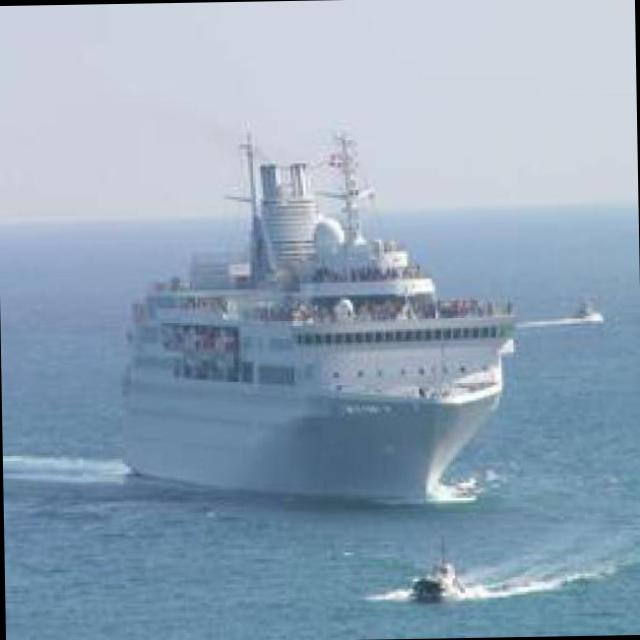boat: (92, 240, 538, 522)
